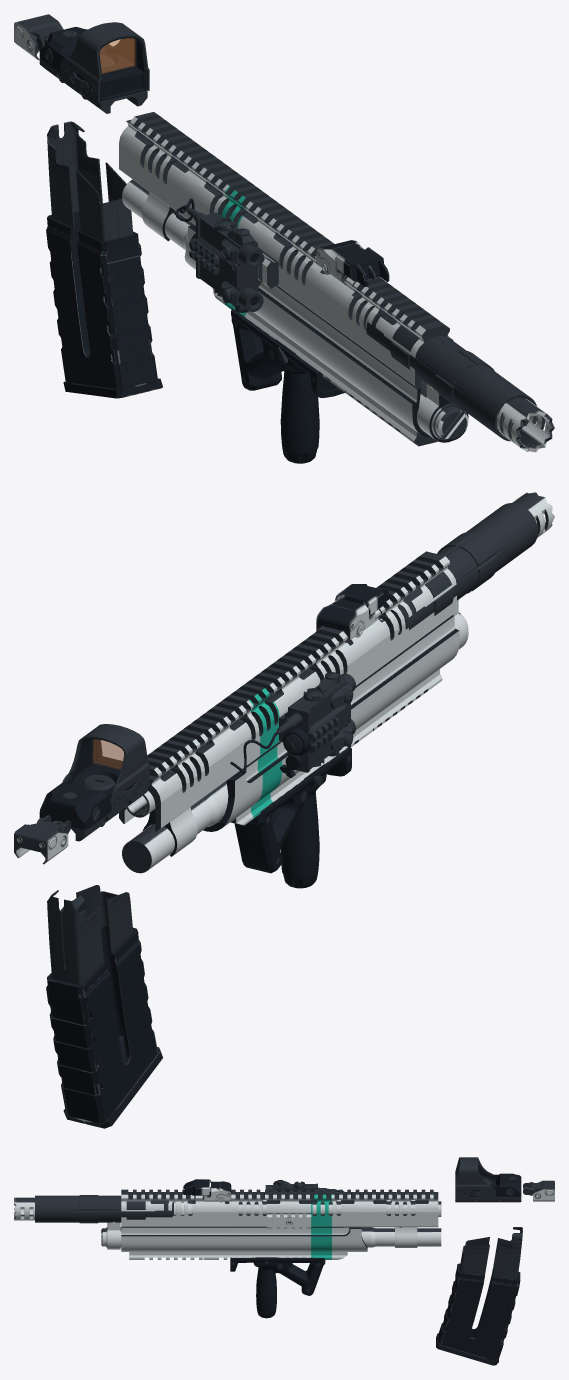
File: Shotgun.glb
3 renders of one model, top to bottom at view 1: azimuth 30°, elevation 25°; view 2: azimuth 150°, elevation 25°; view 3: azimuth 270°, elevation 25°, orthographic. The views are drawn at different scales.
Visible parts, largest first — view 1: SM_Shotgun_Magazine_Transparent, SM_Shotgun_Barrel_Short, SM_Shotgun_Barrel_Extended, SM_Scope, SM_Shotgun_Forend_Extended, SM_Silencer, SM_Shotgun_Barrel_Default, SM_Laser, SM_Grip_Angled, SM_Grip_Vertical, SM_Shotgun_Sight_Front_Folded, SM_Shotgun_Forend_Default (+2 smaller); view 2: SM_Shotgun_Magazine_Transparent, SM_Shotgun_Barrel_Short, SM_Shotgun_Barrel_Extended, SM_Scope, SM_Shotgun_Forend_Extended, SM_Silencer, SM_Laser, SM_Grip_Angled, SM_Shotgun_Barrel_Default, SM_Grip_Vertical, SM_Shotgun_Sight_Front_Folded, SM_Shotgun_Forend_Short (+2 smaller); view 3: SM_Shotgun_Magazine_Transparent, SM_Shotgun_Barrel_Default, SM_Shotgun_Barrel_Extended, SM_Shotgun_Forend_Extended, SM_Shotgun_Barrel_Short, SM_Silencer, SM_Shotgun_Forend_Default, SM_Scope, SM_Shotgun_Forend_Short, SM_Grip_Angled, SM_Grip_Vertical, SM_Shotgun_Sight_Front_Folded (+2 smaller).
Part boxes in pixels (<box>): SM_Shotgun_Magazine_Transparent: <box>46,121,162,398</box>; SM_Shotgun_Barrel_Short: <box>119,112,375,327</box>; SM_Shotgun_Barrel_Extended: <box>122,121,554,452</box>; SM_Scope: <box>39,22,149,113</box>; SM_Shotgun_Forend_Extended: <box>190,227,437,446</box>; SM_Silencer: <box>366,309,537,441</box>; SM_Shotgun_Barrel_Default: <box>133,114,359,334</box>; SM_Laser: <box>175,198,263,312</box>; SM_Grip_Angled: <box>231,308,344,397</box>; SM_Grip_Vertical: <box>274,339,319,463</box>; SM_Shotgun_Sight_Front_Folded: <box>316,240,389,286</box>; SM_Shotgun_Forend_Default: <box>188,226,349,392</box>; SM_Shotgun_Magazine_Transparent: <box>46,885,162,1128</box>; SM_Shotgun_Barrel_Short: <box>119,611,399,872</box>; SM_Shotgun_Barrel_Extended: <box>122,492,554,869</box>; SM_Scope: <box>39,724,149,841</box>; SM_Shotgun_Forend_Extended: <box>216,615,459,822</box>; SM_Silencer: <box>397,503,537,630</box>; SM_Laser: <box>230,672,355,777</box>; SM_Grip_Angled: <box>234,747,351,873</box>; SM_Shotgun_Barrel_Default: <box>119,609,387,873</box>; SM_Grip_Vertical: <box>280,764,326,888</box>; SM_Shotgun_Sight_Front_Folded: <box>316,584,389,642</box>; SM_Shotgun_Forend_Short: <box>203,705,358,831</box>; SM_Shotgun_Magazine_Transparent: <box>436,1227,522,1365</box>; SM_Shotgun_Barrel_Default: <box>195,1194,441,1247</box>; SM_Shotgun_Barrel_Extended: <box>14,1189,441,1249</box>; SM_Shotgun_Forend_Extended: <box>121,1227,359,1259</box>; SM_Shotgun_Barrel_Short: <box>174,1189,441,1241</box>; SM_Silencer: <box>35,1195,173,1223</box>; SM_Shotgun_Forend_Default: <box>195,1227,361,1259</box>; SM_Scope: <box>455,1157,521,1202</box>; SM_Shotgun_Forend_Short: <box>229,1227,367,1259</box>; SM_Grip_Angled: <box>230,1257,325,1295</box>; SM_Grip_Vertical: <box>253,1257,277,1318</box>; SM_Shotgun_Sight_Front_Folded: <box>183,1179,231,1202</box>.
Bounding box in the file's own units: 7.46 × 27.54 × 67.46.
20 materials, 18 textured.
